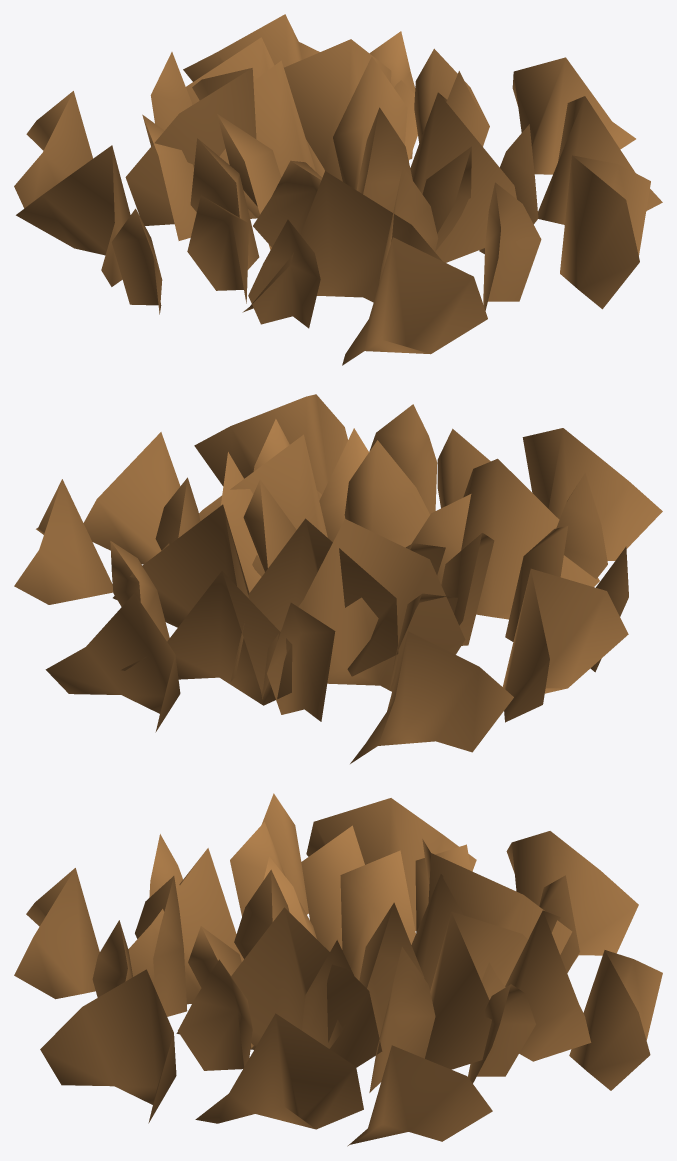
The model's file is Grass_1.glb.
3 renders of one model, top to bottom at view 1: azimuth 30°, elevation 25°; view 2: azimuth 150°, elevation 25°; view 3: azimuth 270°, elevation 25°, orthographic. The views are drawn at different scales.
Parts seen in each view (by area): view 1: Grass_1; view 2: Grass_1; view 3: Grass_1.
Part boxes in pixels (x1,y1,x2,y2): Grass_1: (14,14,662,365); Grass_1: (14,394,662,763); Grass_1: (14,793,662,1146).
Size of the model in its own units: 1.16 by 0.3089 by 1.16.
